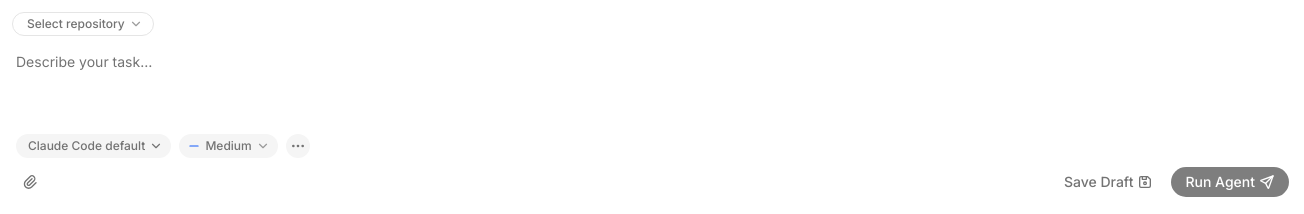
Test: IssueCreateForm › stores the selected project from the dropdown
Click the button named "Project". click: click(83, 24)
box: [12, 12, 154, 36]
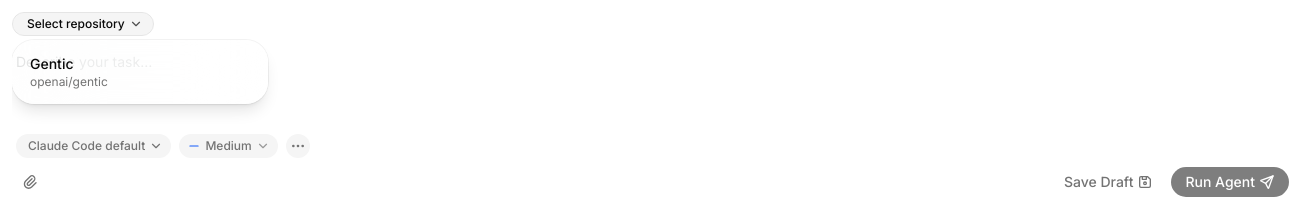
Click the menu item "Gentic openai/gentic". click: click(69, 72)
box: [30, 55, 108, 89]
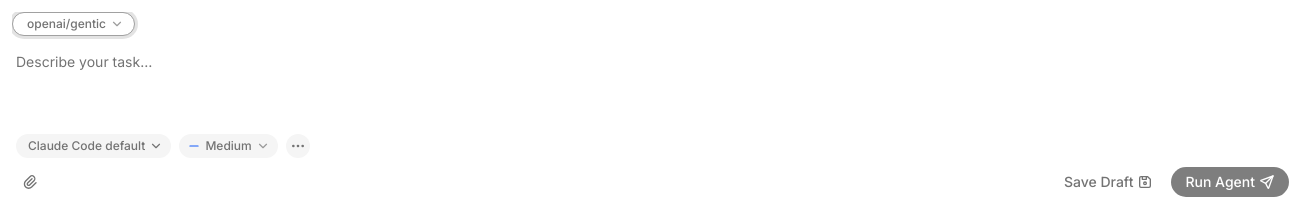
Result: the text "openai/gentic" is shown at [27, 16, 106, 32]
